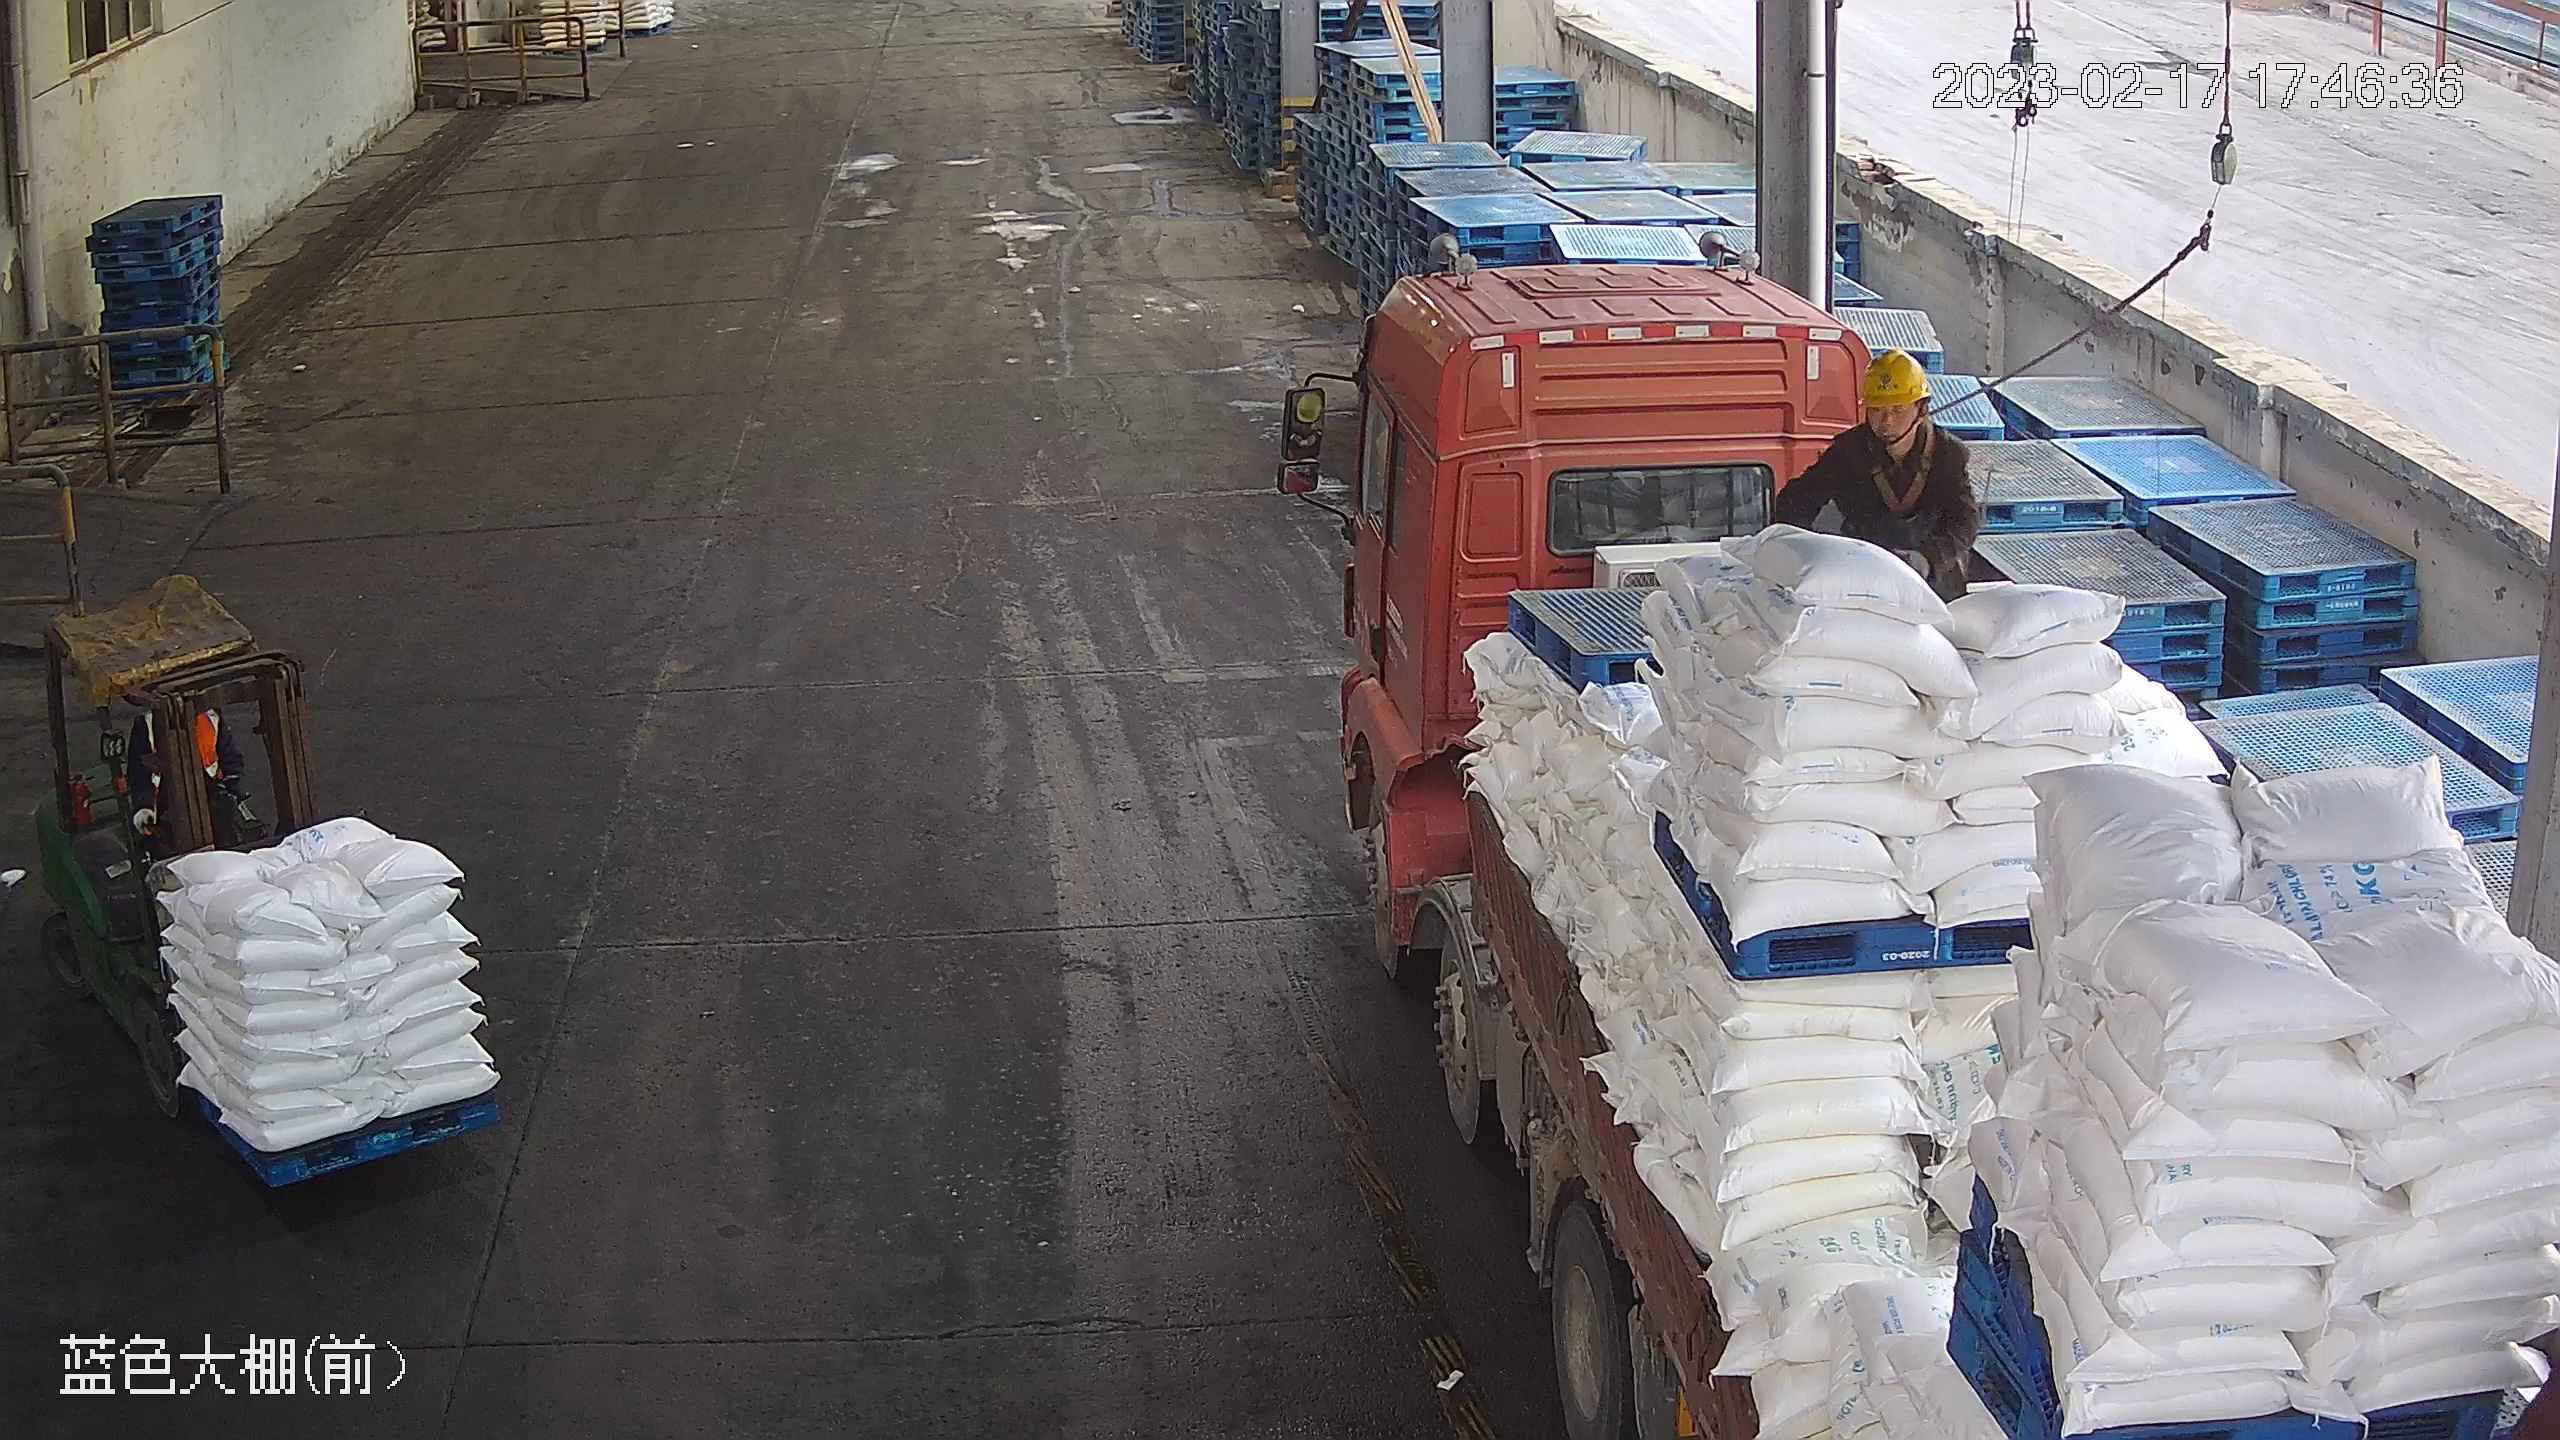belt: (1864, 431, 1943, 509)
head: (1818, 342, 1971, 497)
helmet: (1856, 343, 1934, 410)
truck: (1278, 251, 2559, 1440)
